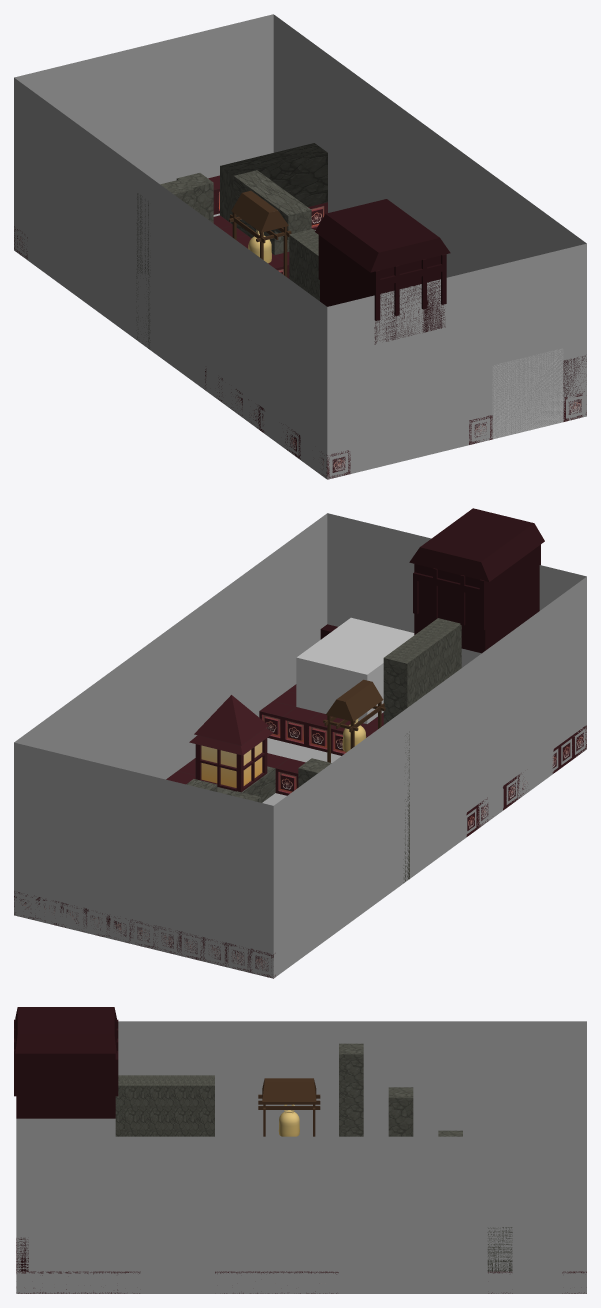
Rendered from Greybox_2.1_Assets.fbx.
The picture shows the model from 3 angles, top to bottom: view 1: azimuth 30°, elevation 25°; view 2: azimuth 150°, elevation 25°; view 3: azimuth 270°, elevation 25°; orthographic projection. The views are drawn at different scales.
Parts seen in each view (by area): view 1: pCube74, pCube98, pPyramid4, polySurface66, polySurface74, polySurface79, pPyramid5, polySurface76, polySurface81, polySurface98, polySurface99; view 2: pCube74, pCube98, polySurface79, polySurface66, pPyramid4, pasted__pCube99, pPyramid5, polySurface98, pPyramid3, polySurface99, polySurface67, polySurface97 (+2 smaller); view 3: pCube74, pCube98, pPyramid4, pPyramid5, polySurface70, polySurface97, polySurface98, polySurface99, polySurface67, polySurface88, polySurface74, polySurface79.
Part boxes in pixels (left/top/right/bottom): pCube74: left=14, top=14, right=586, bottom=479; pCube98: left=318, top=235, right=446, bottom=344; pPyramid4: left=315, top=199, right=450, bottom=272; polySurface66: left=492, top=348, right=563, bottom=439; polySurface74: left=220, top=143, right=327, bottom=224; polySurface79: left=14, top=175, right=586, bottom=479; pPyramid5: left=229, top=190, right=291, bottom=276; polySurface76: left=233, top=170, right=311, bottom=240; polySurface81: left=176, top=173, right=213, bottom=223; polySurface98: left=289, top=229, right=318, bottom=288; polySurface99: left=302, top=240, right=318, bottom=298; pCube74: left=14, top=513, right=586, bottom=978; pCube98: left=413, top=544, right=540, bottom=653; polySurface79: left=14, top=684, right=586, bottom=978; polySurface66: left=296, top=617, right=414, bottom=723; pPyramid4: left=409, top=508, right=544, bottom=581; pasted__pCube99: left=195, top=738, right=267, bottom=792; pPyramid5: left=323, top=679, right=385, bottom=762; polySurface98: left=383, top=648, right=420, bottom=724; pPyramid3: left=194, top=695, right=268, bottom=745; polySurface99: left=397, top=638, right=434, bottom=697; polySurface67: left=425, top=618, right=461, bottom=677; polySurface97: left=411, top=628, right=447, bottom=687; pCube74: left=16, top=1021, right=586, bottom=1293; pCube98: left=14, top=1019, right=118, bottom=1118; pPyramid4: left=15, top=1007, right=116, bottom=1053; pPyramid5: left=258, top=1078, right=320, bottom=1136; polySurface70: left=339, top=1043, right=363, bottom=1136; polySurface97: left=140, top=1075, right=165, bottom=1136; polySurface98: left=190, top=1075, right=214, bottom=1136; polySurface99: left=165, top=1075, right=189, bottom=1136; polySurface67: left=115, top=1075, right=140, bottom=1136; polySurface88: left=388, top=1087, right=413, bottom=1136; polySurface74: left=487, top=1227, right=512, bottom=1271; polySurface79: left=16, top=1271, right=586, bottom=1293.
Size of the model in its own units: 22 by 17.47 by 46.2.
